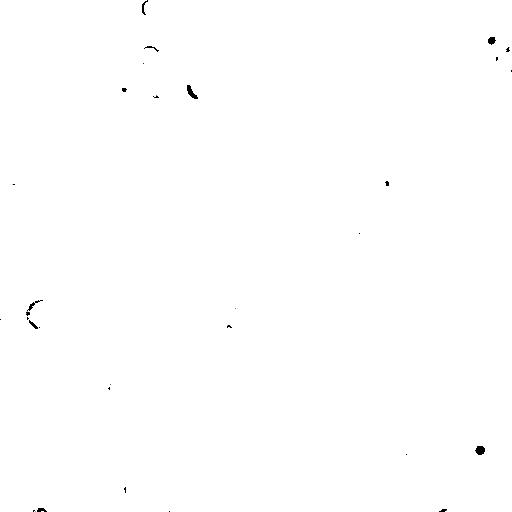micro-algae: (296, 341, 351, 395), (455, 361, 504, 409), (449, 55, 489, 95), (455, 427, 493, 467), (181, 32, 215, 66), (27, 297, 58, 330), (66, 367, 99, 395), (1, 22, 37, 47), (271, 314, 304, 341), (372, 321, 406, 347), (421, 0, 455, 25), (477, 24, 507, 52), (109, 73, 137, 103), (425, 490, 463, 511), (186, 72, 214, 99), (261, 163, 287, 192), (91, 319, 120, 345), (45, 192, 70, 221), (26, 441, 51, 469), (166, 78, 189, 104), (497, 29, 512, 68), (239, 57, 257, 89), (249, 355, 271, 381), (395, 435, 418, 458), (137, 45, 161, 67), (107, 50, 132, 71), (283, 489, 305, 512), (143, 432, 165, 454), (123, 477, 145, 499), (215, 139, 239, 159), (356, 221, 377, 243), (223, 307, 246, 327), (107, 375, 126, 399), (497, 54, 512, 84), (167, 493, 191, 511), (188, 377, 207, 399), (376, 172, 397, 190), (140, 0, 161, 17), (133, 297, 151, 316), (6, 123, 27, 138), (177, 329, 193, 347), (163, 1, 190, 11), (260, 283, 275, 301), (11, 180, 23, 197), (29, 504, 49, 511)
